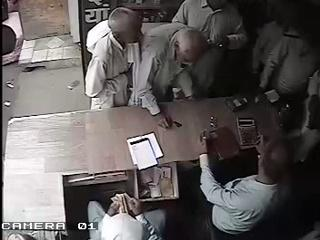Normal: (198, 99, 297, 240), (256, 0, 320, 98), (192, 0, 250, 98), (151, 26, 209, 102), (88, 192, 164, 240), (172, 0, 212, 30)
shoplifting: (84, 7, 174, 130)
